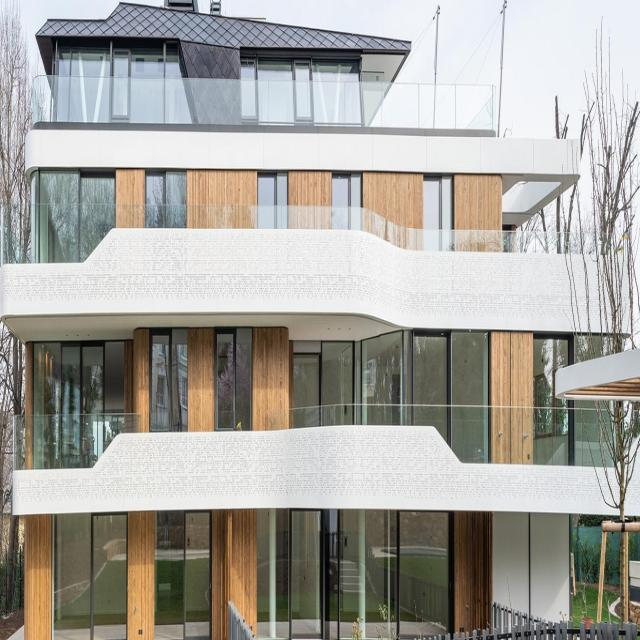Railing: (0, 202, 537, 264), (34, 84, 496, 124), (290, 408, 611, 463), (12, 415, 141, 470)
door: (52, 510, 128, 639), (152, 509, 212, 639), (290, 511, 329, 639)
wall: (0, 1, 640, 638)
windows: (257, 513, 454, 639), (291, 331, 491, 408), (34, 339, 124, 414), (150, 334, 189, 436), (215, 327, 252, 433), (60, 53, 182, 84), (32, 168, 116, 208), (240, 61, 361, 86), (534, 335, 572, 410), (144, 164, 188, 204), (423, 178, 455, 232), (256, 175, 290, 208), (332, 172, 363, 206)
